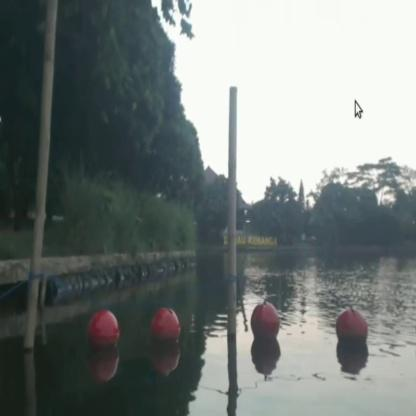red_buoy: (335, 306, 368, 352), (249, 301, 280, 345), (88, 311, 119, 355), (152, 308, 181, 352)
